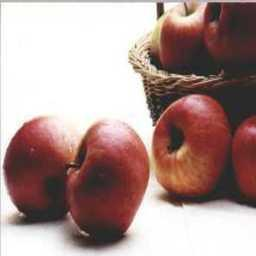apple: (64, 119, 149, 240), (148, 94, 231, 200), (2, 115, 82, 222), (159, 2, 213, 74)
